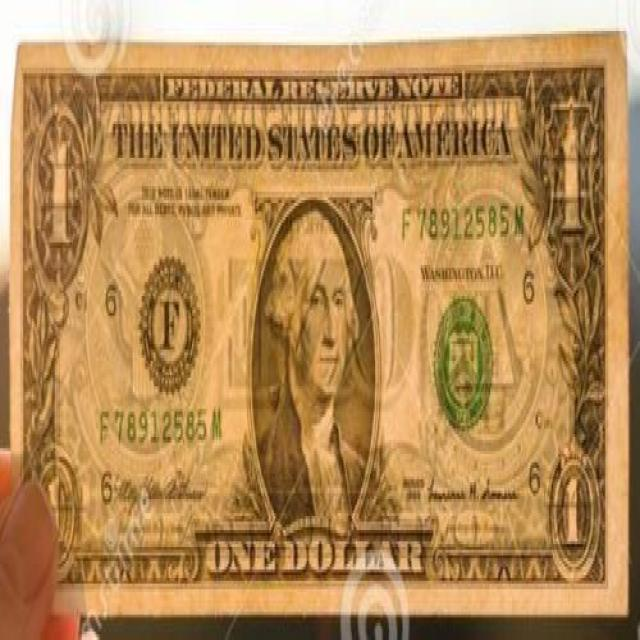1-Front: (10, 42, 630, 618)
